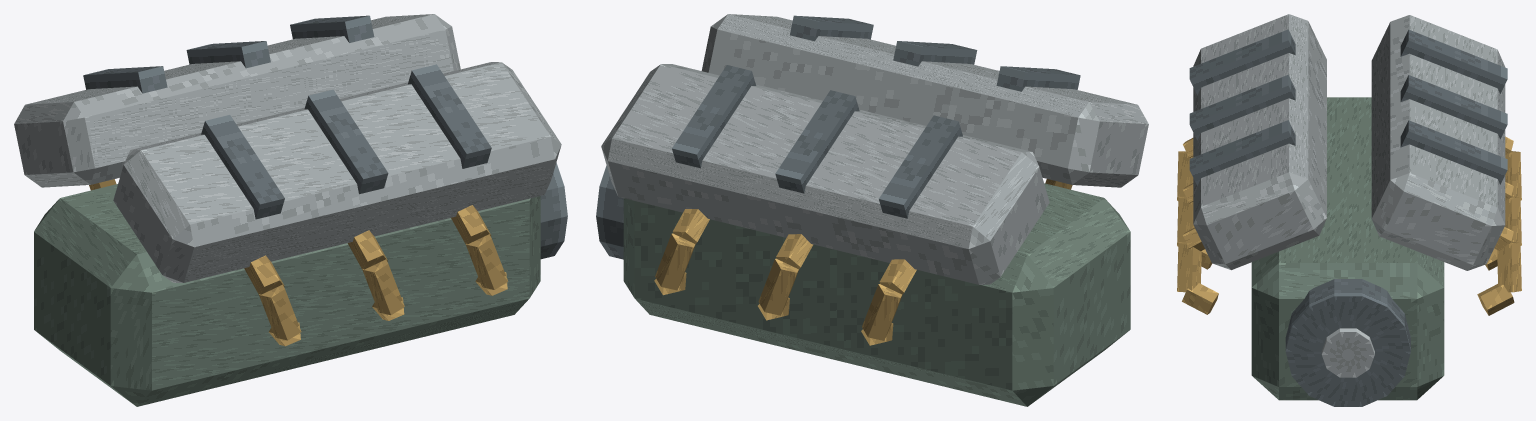
The model's file is v6_diesel.glb.
3 renders of one model, left to right at view 1: azimuth 30°, elevation 25°; view 2: azimuth 150°, elevation 25°; view 3: azimuth 270°, elevation 25°, orthographic. The views are drawn at different scales.
Visible parts, largest first — view 1: block_valve cover (×2), block_ribbed cast engine housing, block_cast cover rib (×6), block_bank exhaust branch 1 (×3), block_bank exhaust branch 0 (×3), block_crank pulley; view 2: block_valve cover (×2), block_ribbed cast engine housing, block_cast cover rib (×6), block_bank exhaust branch 1 (×3), block_bank exhaust branch 0 (×3), block_crank pulley; view 3: block_valve cover (×2), block_ribbed cast engine housing, block_cast cover rib (×6), block_crank pulley, block_bank exhaust branch 1 (×6), block_pulley hub, block_bank exhaust branch 2 (×2).
Part boxes in pixels (x1=…): block_valve cover (×2): x1=14, y1=14, x2=561, y2=282; block_ribbed cast engine housing: x1=34, y1=184, x2=540, y2=406; block_cast cover rib (×6): x1=83, y1=15, x2=491, y2=219; block_bank exhaust branch 1 (×3): x1=259, y1=234, x2=508, y2=340; block_bank exhaust branch 0 (×3): x1=244, y1=205, x2=491, y2=294; block_crank pulley: x1=540, y1=162, x2=567, y2=259; block_valve cover (×2): x1=601, y1=14, x2=1148, y2=284; block_ribbed cast engine housing: x1=623, y1=183, x2=1130, y2=406; block_cast cover rib (×6): x1=672, y1=15, x2=1080, y2=218; block_bank exhaust branch 1 (×3): x1=655, y1=233, x2=902, y2=340; block_bank exhaust branch 0 (×3): x1=672, y1=209, x2=916, y2=294; block_crank pulley: x1=596, y1=165, x2=623, y2=259; block_valve cover (×2): x1=1193, y1=14, x2=1505, y2=270; block_ribbed cast engine housing: x1=1251, y1=97, x2=1444, y2=400; block_cast cover rib (×6): x1=1189, y1=29, x2=1507, y2=185; block_crank pulley: x1=1285, y1=279, x2=1410, y2=406; block_bank exhaust branch 1 (×6): x1=1177, y1=151, x2=1521, y2=292; block_pulley hub: x1=1321, y1=328, x2=1374, y2=377; block_bank exhaust branch 2 (×2): x1=1182, y1=283, x2=1514, y2=315.
Size of the model in its own units: 1.11 by 0.5946 by 0.7822.
Materials: 1 (1 with a texture image).
